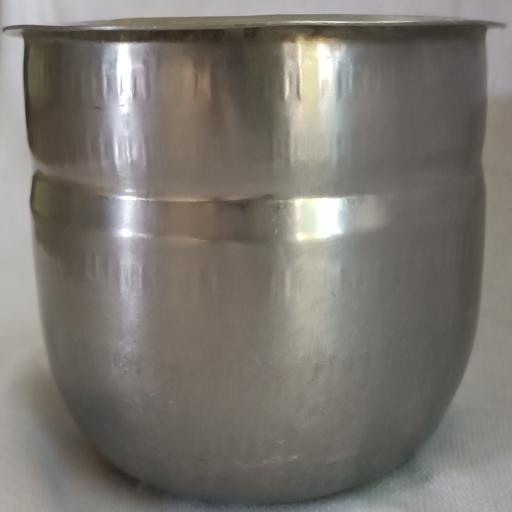vessel: (11, 16, 498, 502)
